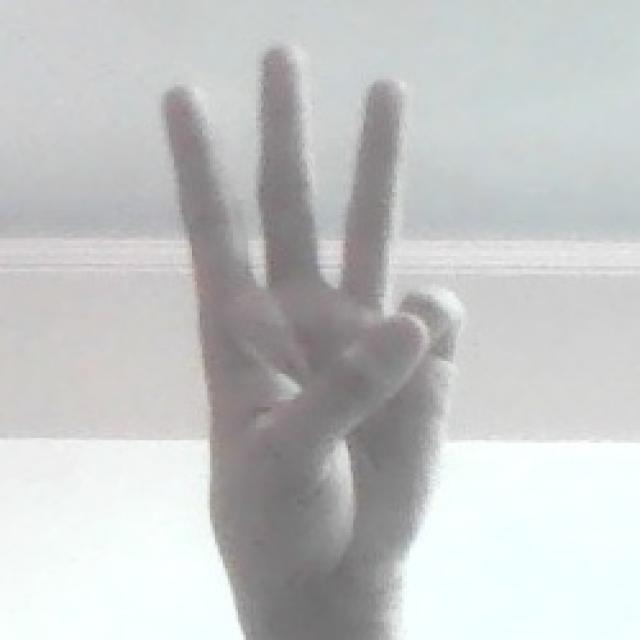Numeric-6: (153, 31, 461, 623)
